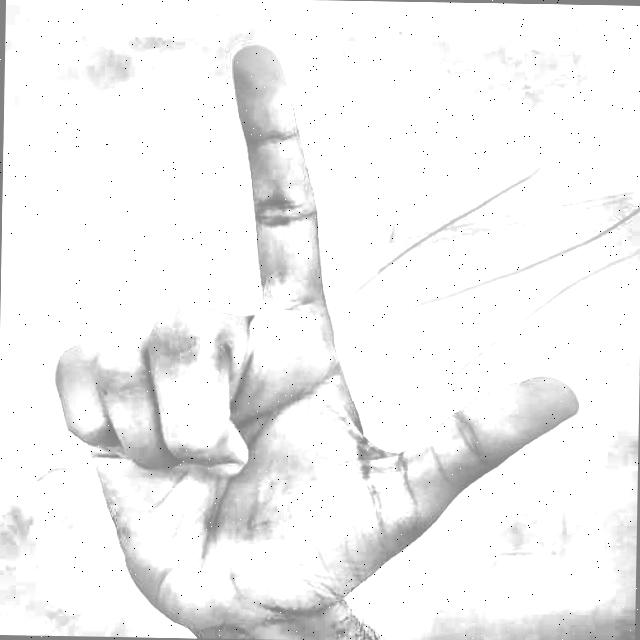La: (14, 13, 597, 640)
